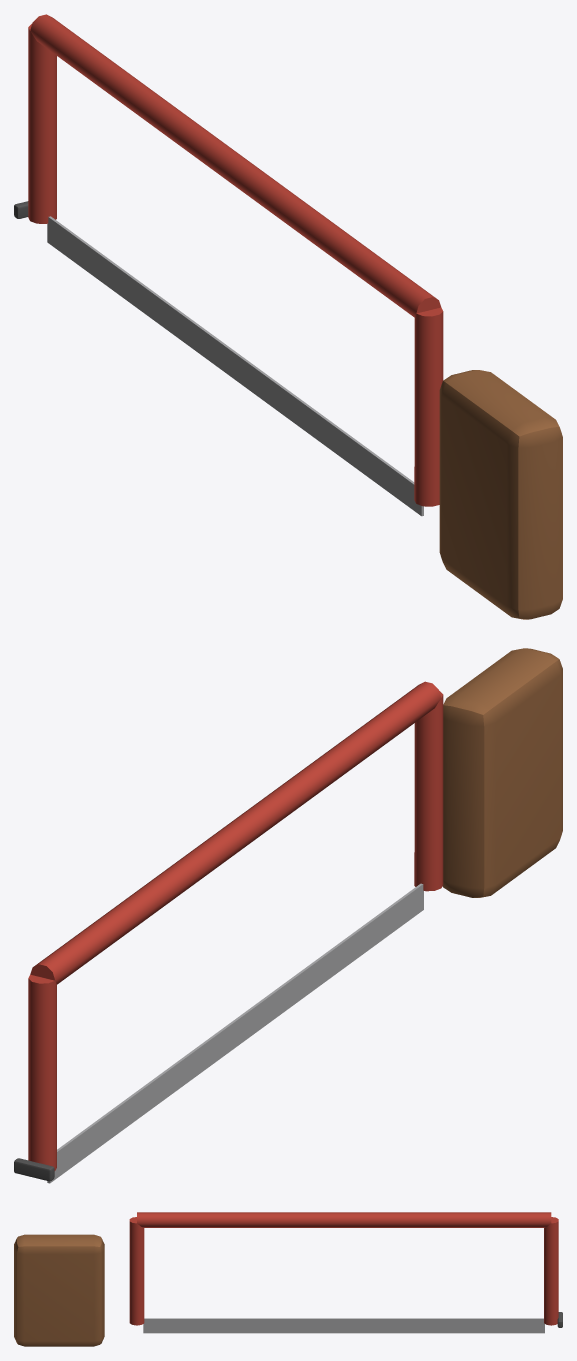
File: hacksaw.glb
The picture shows the model from 3 angles, top to bottom: view 1: azimuth 30°, elevation 25°; view 2: azimuth 150°, elevation 25°; view 3: azimuth 270°, elevation 25°; orthographic projection. The views are drawn at different scales.
Parts seen in each view (by area): view 1: body; view 2: body; view 3: body.
Part boxes in pixels (x1,y1,x2,y2): body: (14, 14, 562, 619); body: (14, 648, 562, 1183); body: (14, 1212, 562, 1346).
Bounding box in the file's own units: 0.026 × 0.1107 × 0.424.
